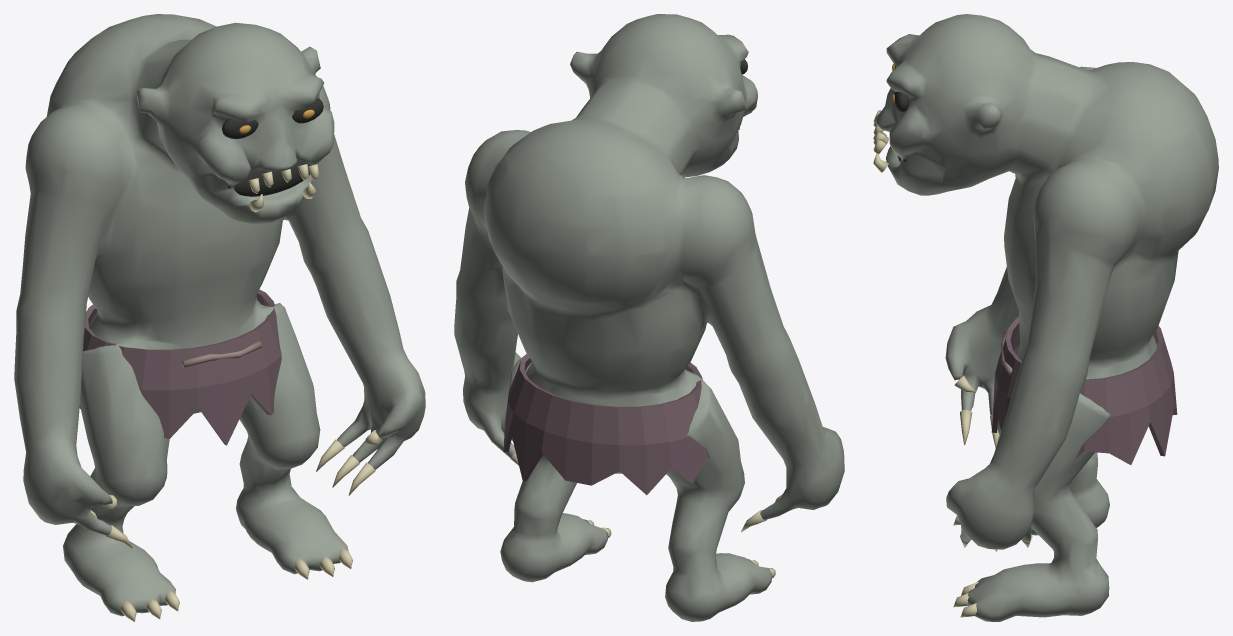
The model's file is crypt-ghoul-blender-v3.glb.
3 views of the same model, side by side, from view 1: azimuth 30°, elevation 25°; view 2: azimuth 150°, elevation 25°; view 3: azimuth 270°, elevation 25° (orthographic). The views are drawn at different scales.
Visible parts, largest first — view 1: GhoulSkin, Torn burial wrap, Mouth opening, Cloth tie; view 2: GhoulSkin, Torn burial wrap; view 3: GhoulSkin, Torn burial wrap.
Boxes of the visible parts, x1,y1,x2,y2 form: GhoulSkin: (14, 14, 425, 616); Torn burial wrap: (79, 289, 281, 445); Mouth opening: (228, 160, 310, 196); Cloth tie: (182, 341, 262, 367); GhoulSkin: (454, 14, 844, 621); Torn burial wrap: (503, 354, 710, 495); GhoulSkin: (876, 14, 1218, 621); Torn burial wrap: (991, 317, 1177, 464).
Bounding box in the file's own units: 1.52 × 2.13 × 1.21.
